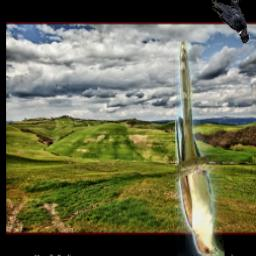Crow: (209, 0, 250, 43)
Cuckoo: (176, 42, 226, 256)
